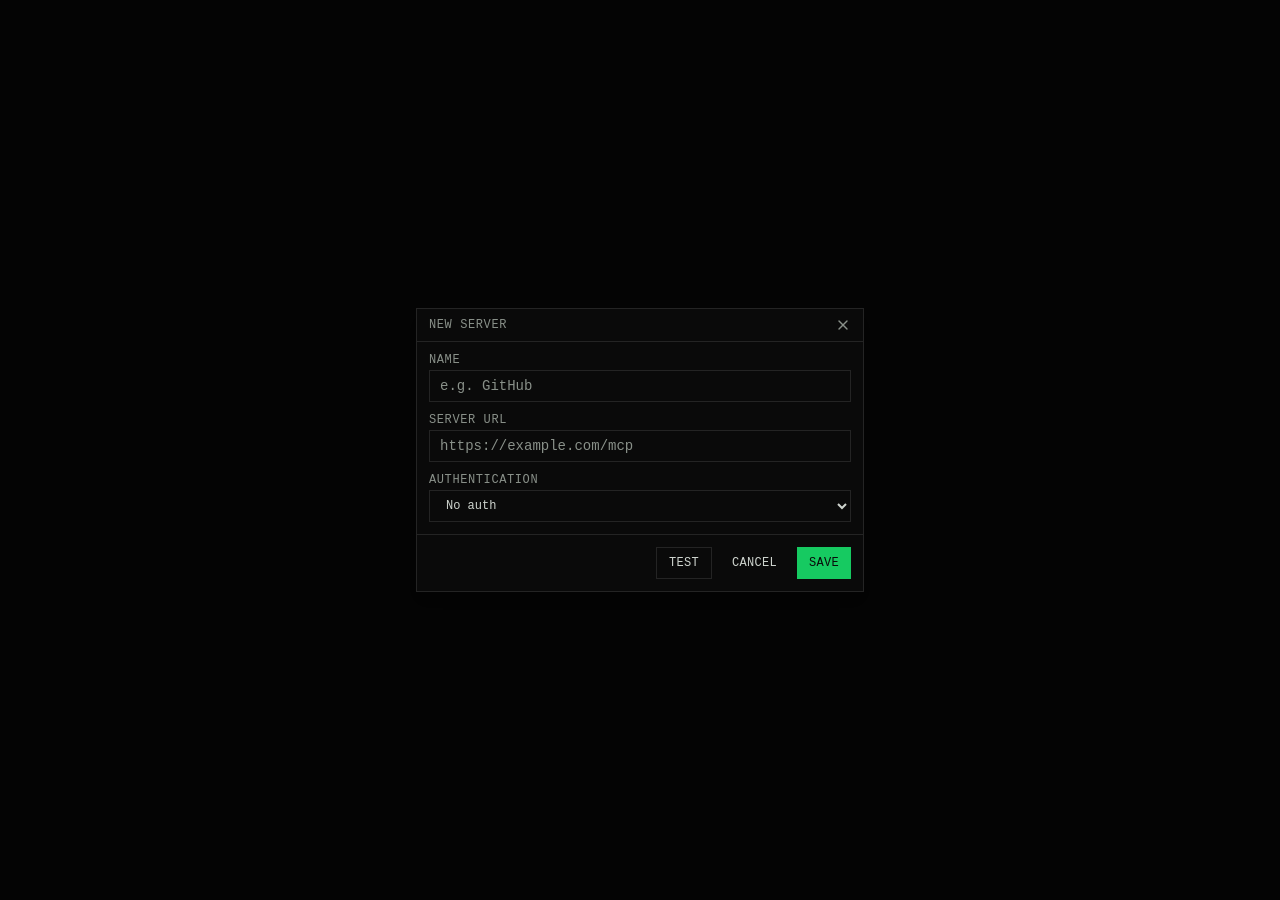
Test case: McpServerDialog › requires a name
What coordinates should you click on to do the following:
click the button "Save"
I would click on:
 (824, 563)
Its box is [797,547,851,579].
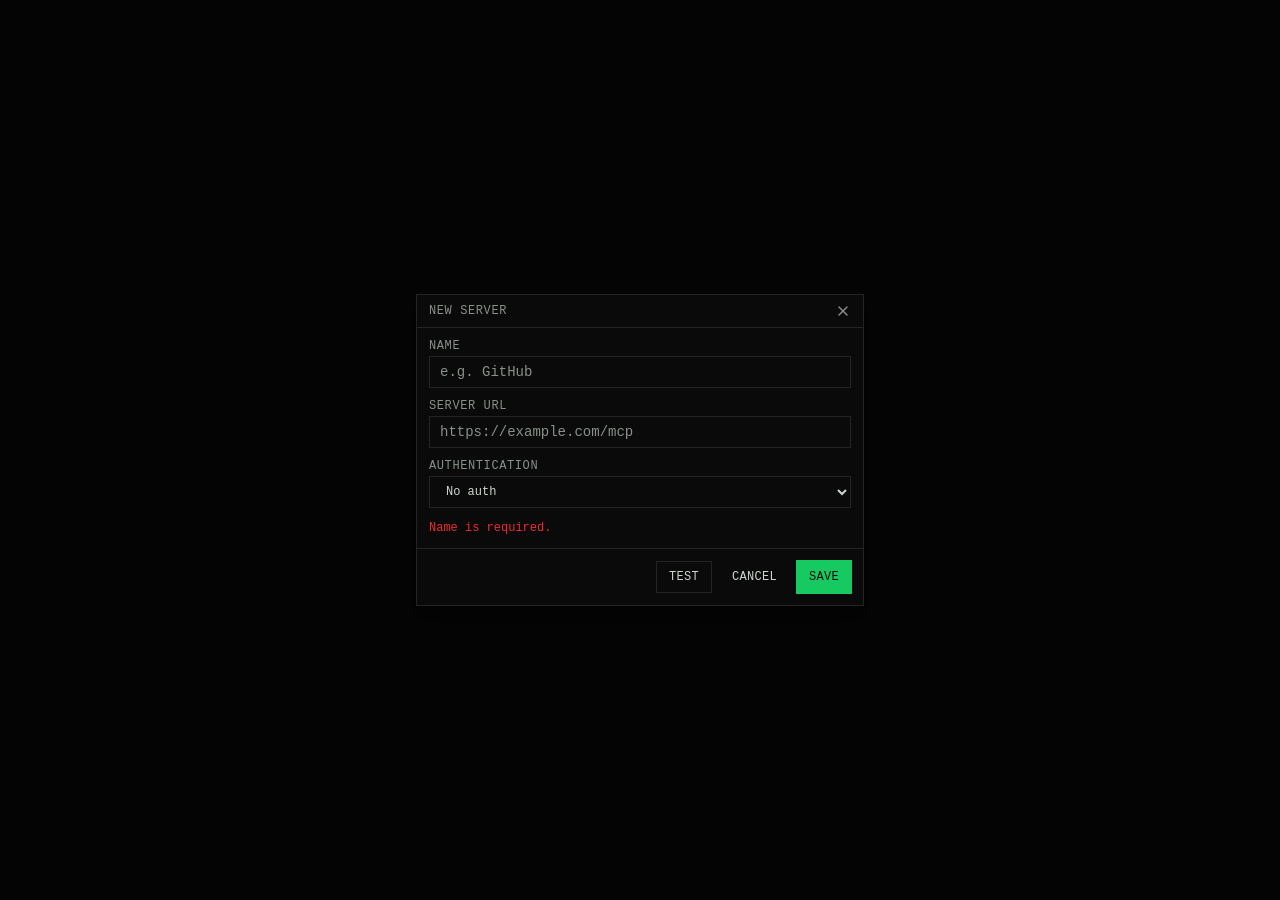
Check: the message reads "Name is required.", box [429,521,551,535]
